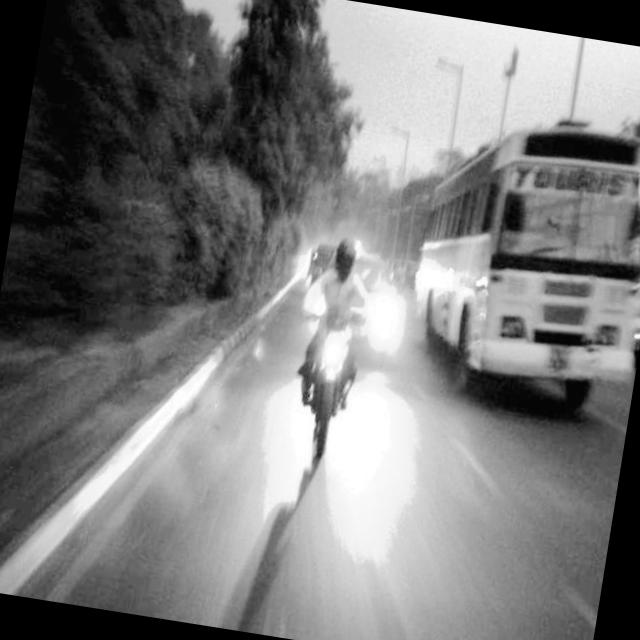Bus: (383, 111, 640, 427)
Motorcycle: (278, 336, 371, 487)
